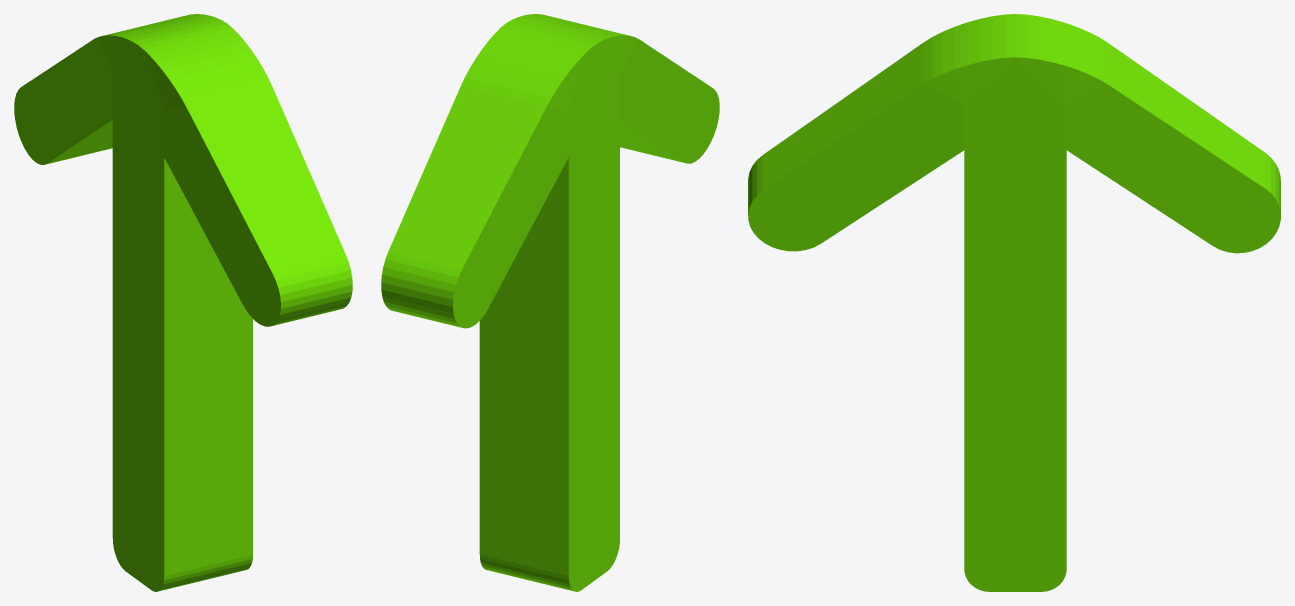
Rendered from powerup.glb.
3 views of the same model, side by side, from view 1: azimuth 30°, elevation 25°; view 2: azimuth 150°, elevation 25°; view 3: azimuth 270°, elevation 25° (orthographic).
Visible parts, largest first — view 1: Cube; view 2: Cube; view 3: Cube.
Part boxes in pixels (x1=…): Cube: x1=14, y1=14, x2=352, y2=591; Cube: x1=381, y1=14, x2=719, y2=591; Cube: x1=748, y1=14, x2=1280, y2=591.
Bounding box in the file's own units: 2 × 11.5 × 10.39.
